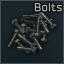Bolts: (0, 0, 64, 64)
